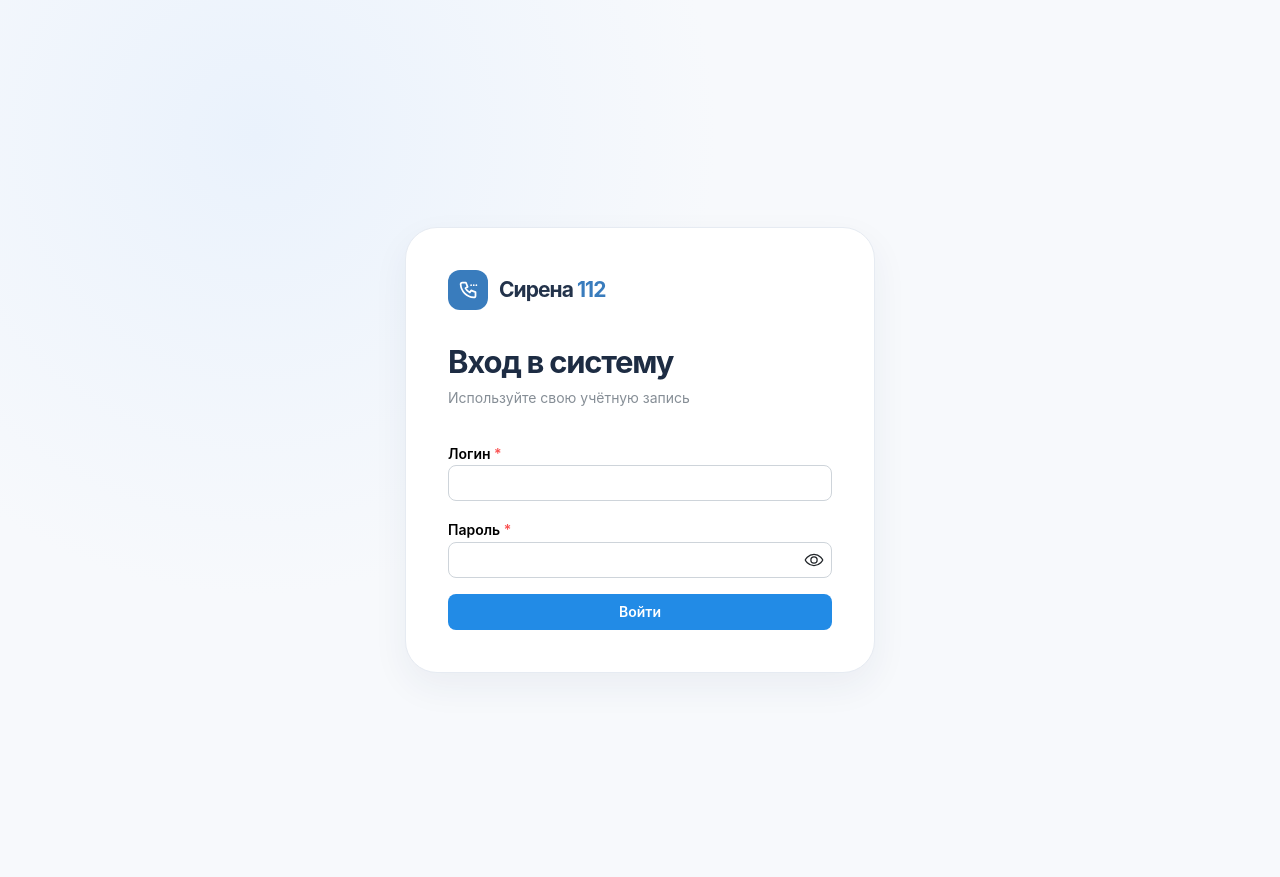
Scenario: authenticated routes › logs a ADMIN account into its own workspace
The image size is (1280, 877).
Type "admin" into the field labelled "Логин *".
click(640, 483); type("admin")  # box [448,465,832,501]
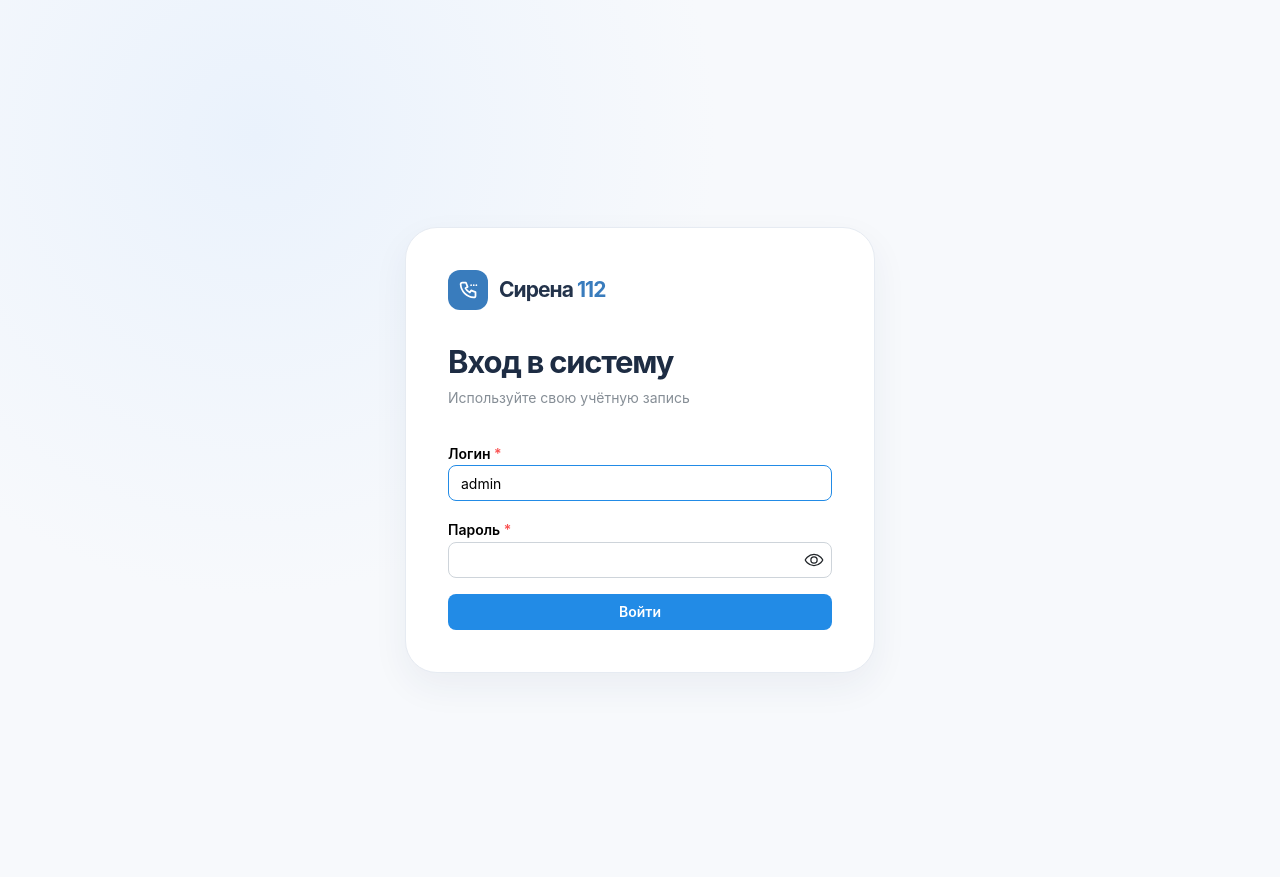
Type "password-for-tests" into the password field labelled "Пароль *".
click(640, 560); type("password-for-tests")  # box [449,543,831,577]
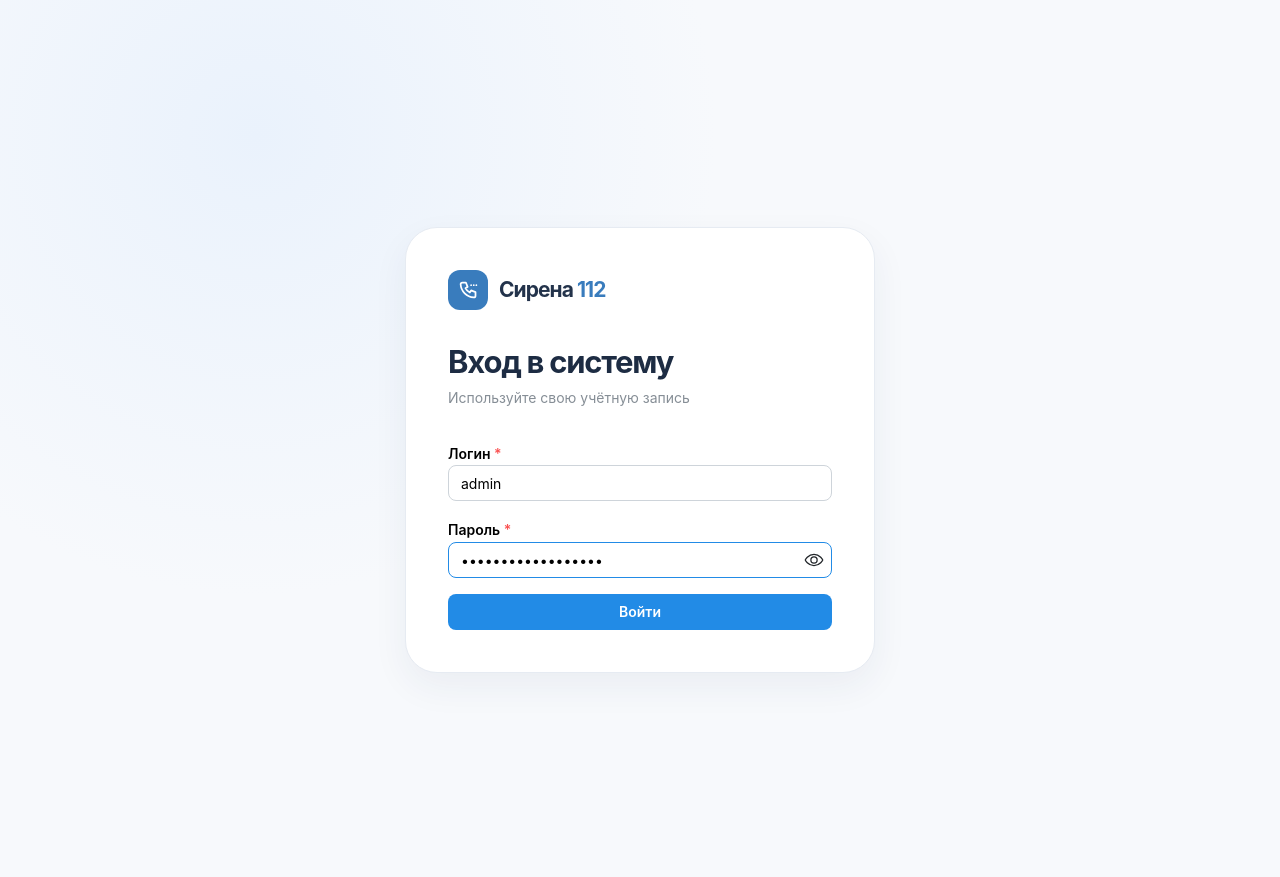
Click the button "Войти".
click(640, 612)  # box [448,594,832,630]
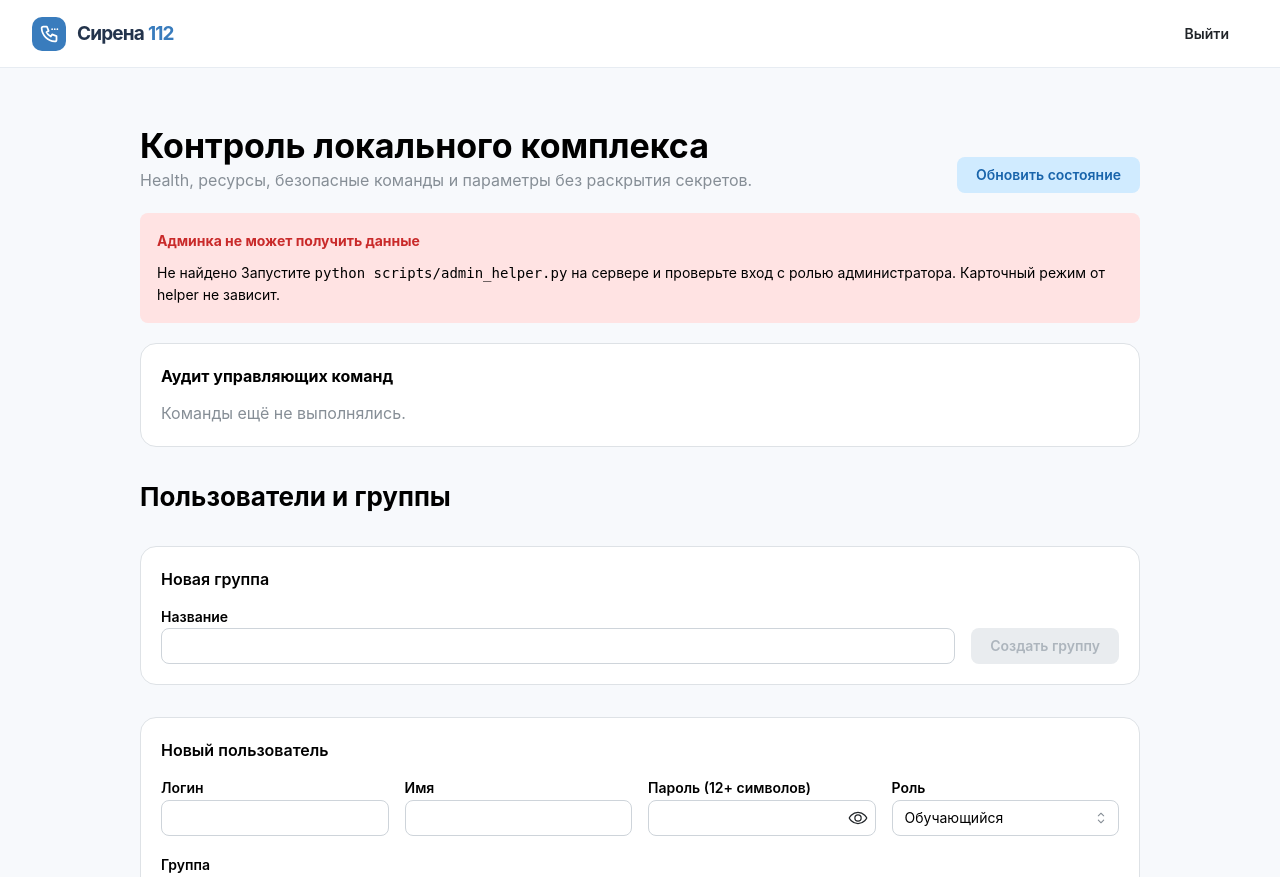
Result: the heading "Контроль локального комплекса" is shown at [140,124,752,168]
